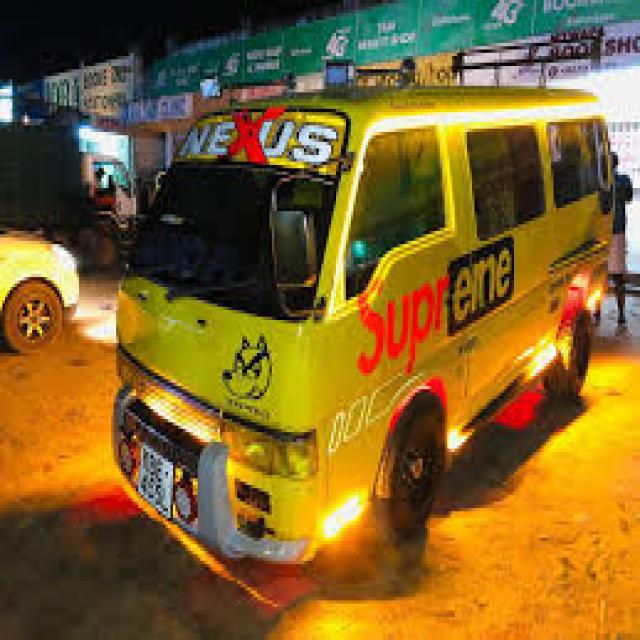matatu: (86, 40, 629, 604)
